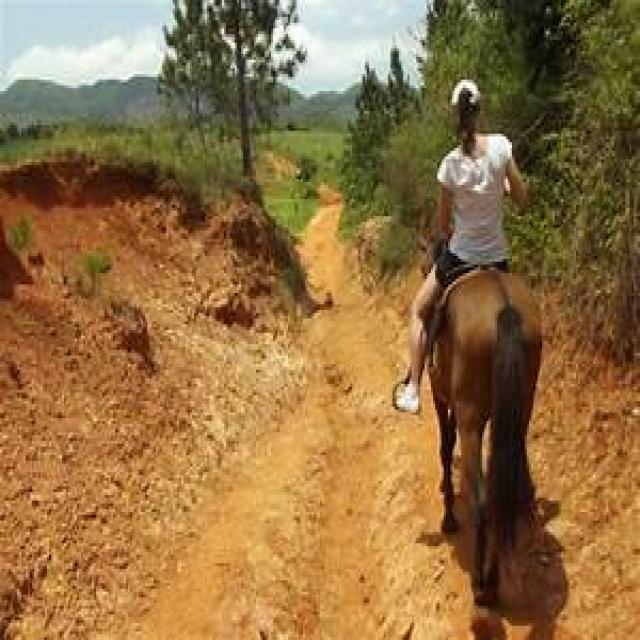horse: (416, 233, 542, 606)
